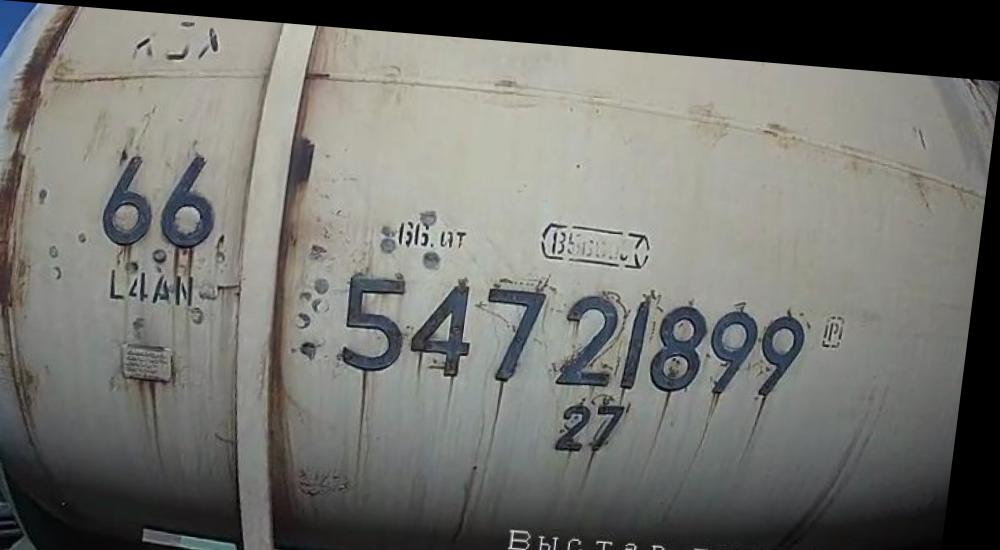Wagon-number: (344, 261, 820, 398)
